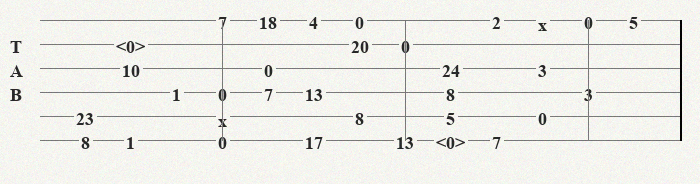0: (218, 84, 231, 100), (218, 132, 231, 148), (264, 60, 277, 76), (355, 12, 368, 28), (401, 36, 414, 52), (538, 108, 551, 124), (584, 12, 597, 28)
1: (126, 132, 139, 148), (172, 84, 185, 100)
10: (122, 60, 144, 76)
13: (305, 84, 327, 100), (396, 132, 418, 148)
17: (305, 132, 327, 148)
18: (259, 12, 281, 28)
2: (492, 12, 505, 28)
20: (351, 36, 373, 52)
23: (76, 108, 98, 124)
24: (442, 60, 464, 76)
3: (538, 60, 551, 76), (584, 84, 597, 100)
4: (309, 12, 322, 28)
5: (446, 108, 459, 124), (629, 12, 642, 28)
7: (218, 12, 231, 28), (264, 84, 277, 100), (492, 132, 505, 148)
8: (81, 132, 94, 148), (355, 108, 368, 124), (446, 84, 459, 100)
harmonic: (116, 36, 149, 52), (436, 132, 469, 148)
x: (218, 110, 231, 122), (538, 14, 551, 26)
